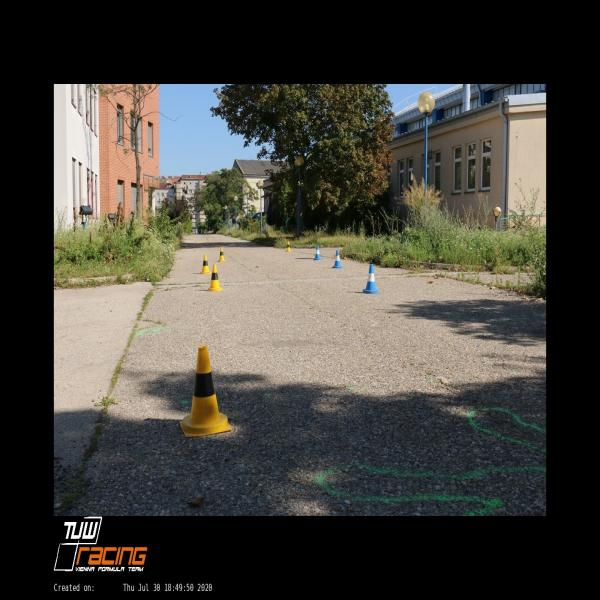blue_cone: (362, 264, 379, 292), (332, 250, 343, 268), (314, 245, 322, 260)
yellow_cone: (180, 344, 233, 438), (208, 265, 222, 291), (200, 254, 211, 274), (217, 246, 226, 262), (286, 241, 292, 252)
